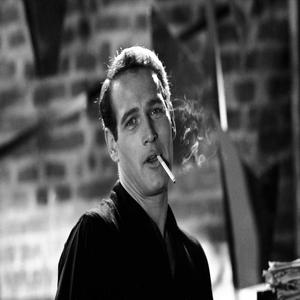cigarette: (155, 154, 178, 183)
